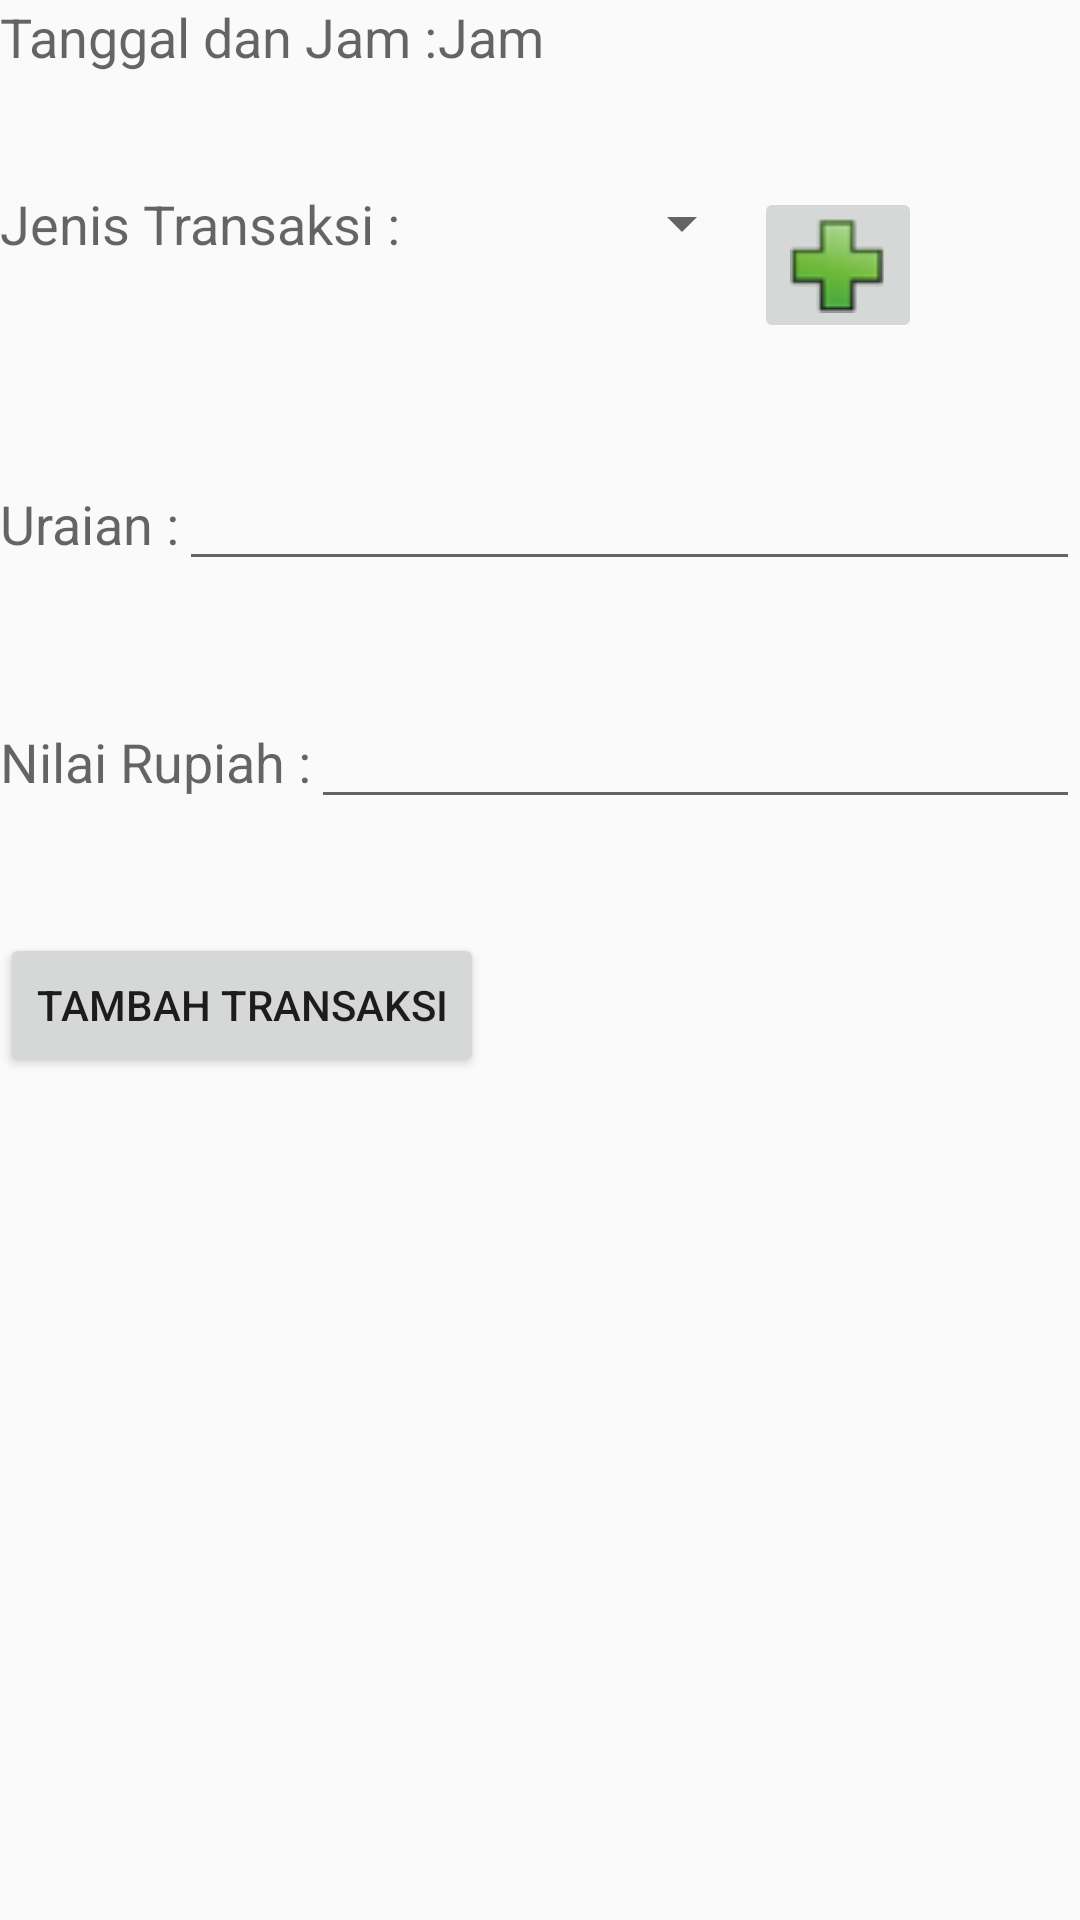

Point at icon controls on the screen. Image size 1080px x 1920px, points as (x=x, y=y).
plus: (x=838, y=265)
